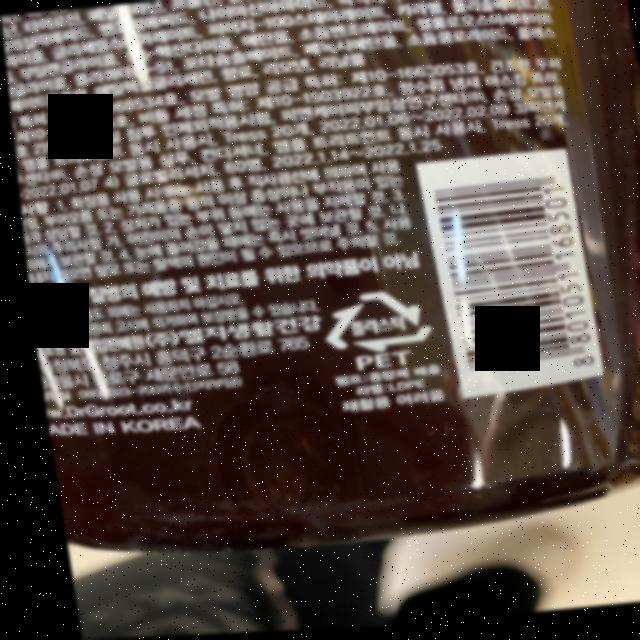Plastic: (309, 286, 432, 360)
